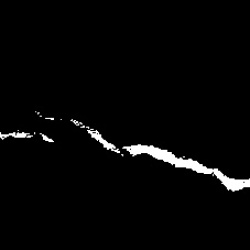crack: (33, 113, 248, 192), (1, 129, 57, 143)
